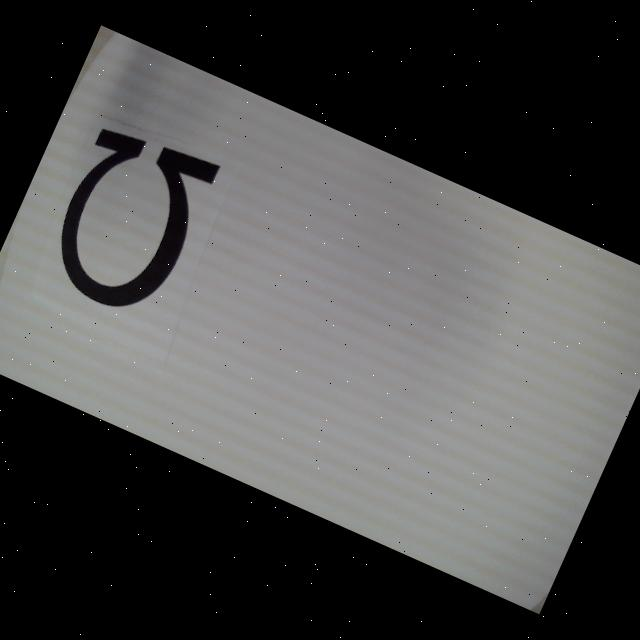OMEGA: (36, 116, 222, 326)
